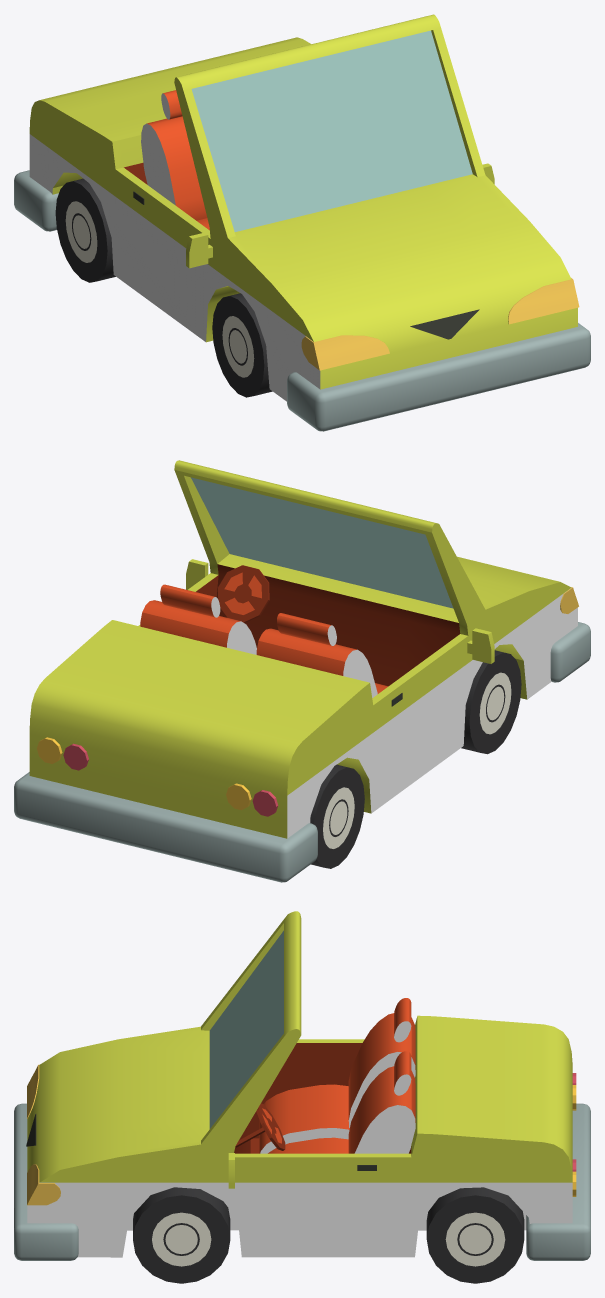
File: convertible.glb
3 views of the same model, one above another, from view 1: azimuth 30°, elevation 25°; view 2: azimuth 150°, elevation 25°; view 3: azimuth 270°, elevation 25° (orthographic). The views are drawn at different scales.
Visible parts, largest first — view 1: green_cabrio; view 2: green_cabrio; view 3: green_cabrio.
Boxes of the visible parts, box(x1,y1,x2,y2) form: green_cabrio: box(14, 14, 590, 431); green_cabrio: box(14, 460, 590, 882); green_cabrio: box(14, 911, 590, 1283).
Size of the model in its own units: 2.18 by 1.86 by 3.81.
